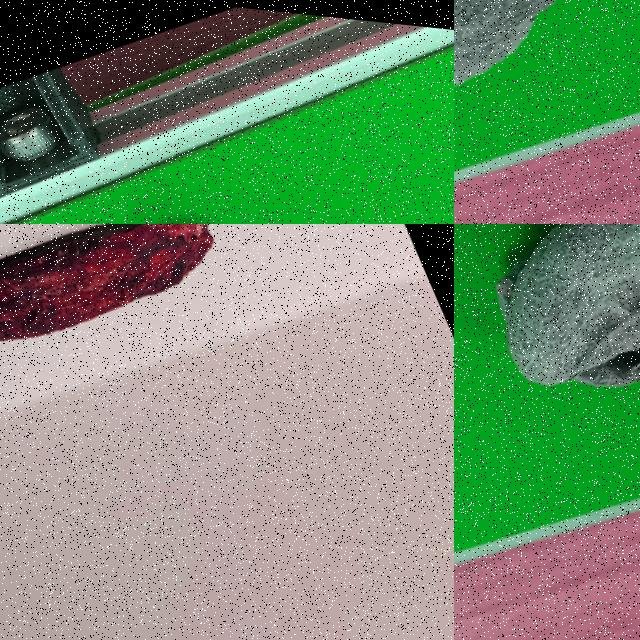Agglomerated_cocoabeans: (454, 224, 639, 506), (454, 0, 639, 199)
Fine_cocoabeans: (43, 143, 313, 223)
Flat_cocoabeans: (0, 224, 276, 436)
